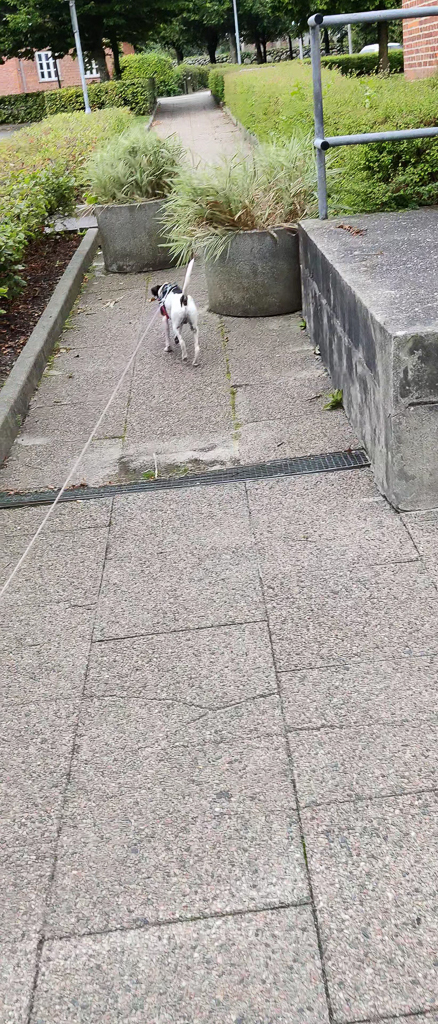Dog: (144, 253, 219, 376)
